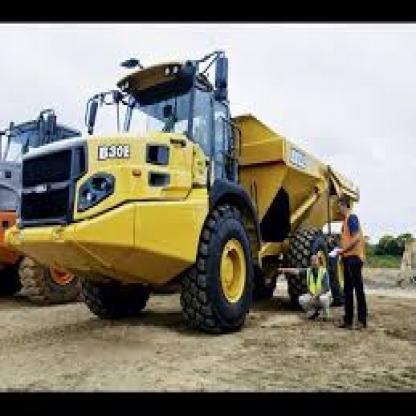dump_truck: (13, 56, 385, 343)
